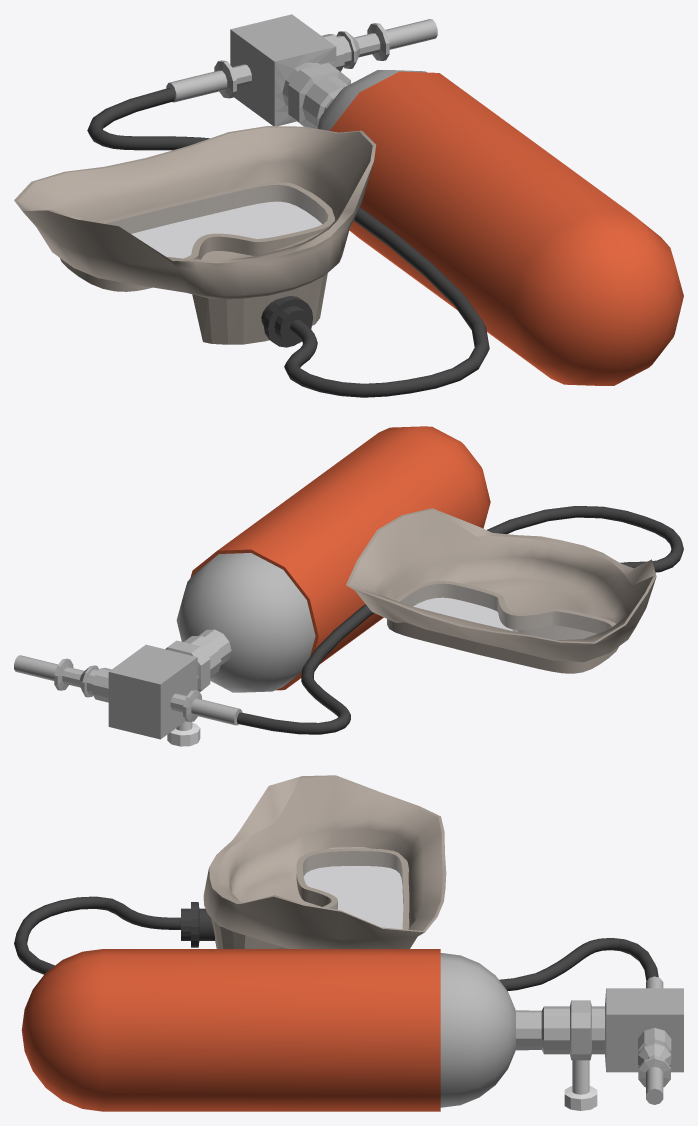
File: PBA.FBX
3 views of the same model, one above another, from view 1: azimuth 30°, elevation 25°; view 2: azimuth 150°, elevation 25°; view 3: azimuth 270°, elevation 25° (orthographic). The views are drawn at different scales.
Parts seen in each view (by area): view 1: Vessel_Cover, Gummi, Schlauch, Glass, Brillen_Rahmen, Manifold_Box, Chrome_Parts, Nozzle_Slim, Outlet, Mask_outlet, Pressure_Vessel; view 2: Gummi, Vessel_Cover, Pressure_Vessel, Brillen_Rahmen, Schlauch, Manifold_Box, Glass, Nozzle_Slim, Chrome_Parts, Outlet, Pressure_Gauge; view 3: Vessel_Cover, Gummi, Pressure_Vessel, Glass, Manifold_Box, Schlauch, Chrome_Parts, Brillen_Rahmen, Nozzle_Slim, Pressure_Gauge, Mask_outlet.
Part boxes in pixels (x1,y1,x2,y2): Vessel_Cover: (330,71,683,385); Gummi: (14,126,376,344); Schlauch: (87,88,489,397); Glass: (106,185,327,258); Brillen_Rahmen: (60,181,334,291); Manifold_Box: (230,14,336,125); Chrome_Parts: (282,62,350,128); Nozzle_Slim: (321,19,437,71); Outlet: (166,60,251,102); Mask_outlet: (261,296,312,347); Pressure_Vessel: (317,70,427,130); Gummi: (346,508,656,662); Vessel_Cover: (190,426,490,690); Pressure_Vessel: (176,553,315,692); Brillen_Rahmen: (387,581,618,673); Schlauch: (237,506,683,734); Manifold_Box: (108,644,197,739); Glass: (400,583,611,640); Nozzle_Slim: (14,655,111,702); Chrome_Parts: (165,629,231,691); Outlet: (170,690,242,725); Pressure_Gauge: (167,721,200,746); Vessel_Cover: (21,949,440,1111); Gummi: (203,775,446,948); Pressure_Vessel: (440,953,515,1107); Glass: (303,851,403,929); Manifold_Box: (605,988,683,1072); Schlauch: (14,896,658,990); Chrome_Parts: (516,1000,604,1060); Brillen_Rahmen: (296,848,409,929); Nozzle_Slim: (638,1027,671,1104); Pressure_Gauge: (564,1060,597,1110); Mask_outlet: (181,902,214,947).
Bounding box in the file's own units: 0.4409 × 0.132 × 0.5133.
